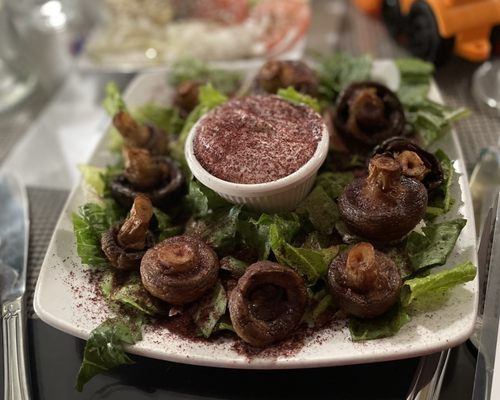sushi: (184, 93, 330, 213)
